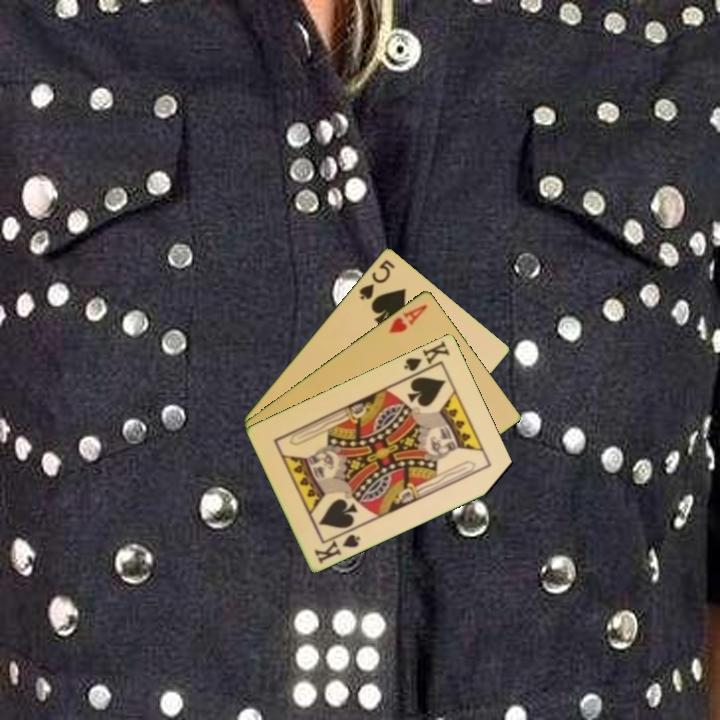5s: (355, 256, 398, 302)
Ah: (385, 300, 430, 336)
Ks: (400, 337, 453, 380), (311, 530, 363, 566)
